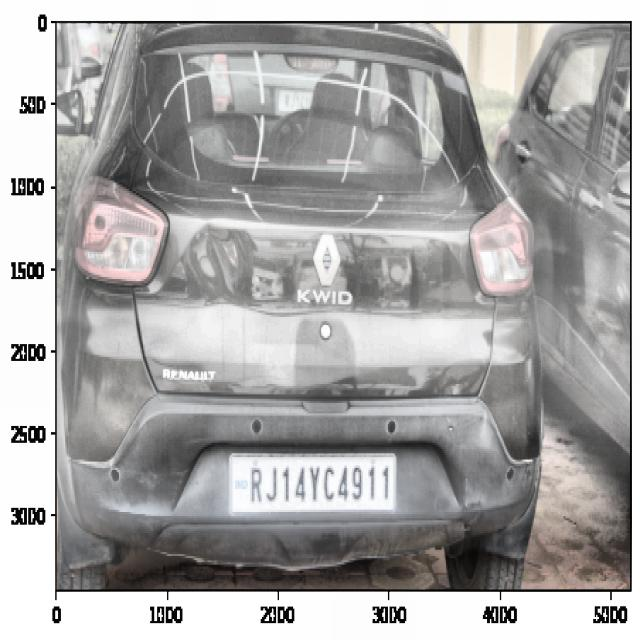license_plate: (242, 455, 395, 516)
